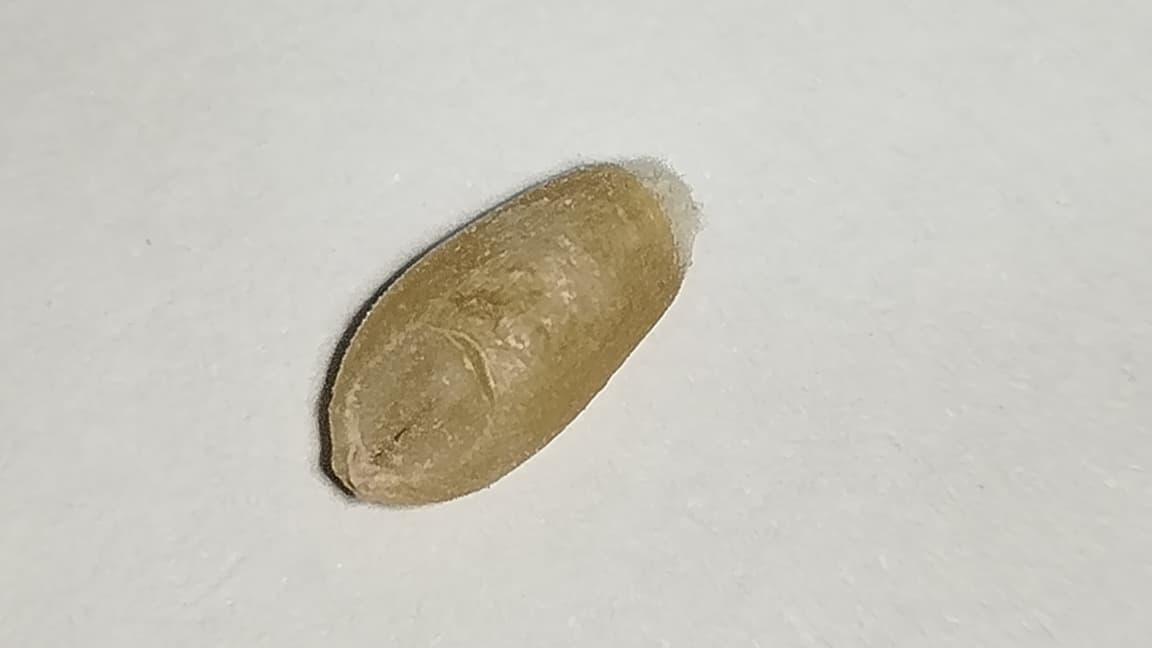damage: (328, 157, 700, 504)
insectdamage: (333, 312, 494, 492)
